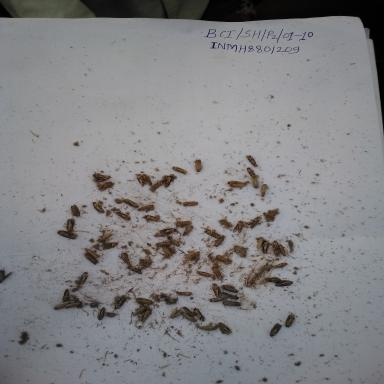pbw: (67, 204, 86, 220), (61, 216, 77, 232), (208, 265, 225, 280), (265, 322, 282, 337), (271, 238, 283, 259), (136, 202, 158, 213), (282, 312, 297, 328), (232, 218, 246, 235), (149, 179, 167, 192), (98, 230, 116, 243), (220, 282, 241, 293), (157, 225, 180, 235), (97, 180, 116, 192), (232, 244, 248, 258), (140, 172, 156, 186), (90, 171, 112, 181), (198, 323, 218, 334), (159, 292, 177, 304), (192, 307, 206, 322), (126, 264, 145, 275), (218, 322, 234, 335), (83, 254, 100, 266), (58, 230, 78, 240), (100, 241, 120, 251), (134, 296, 154, 306), (85, 248, 103, 259), (246, 154, 260, 168), (279, 243, 292, 258), (169, 307, 184, 320), (267, 207, 282, 220), (181, 312, 197, 324), (132, 305, 148, 317), (216, 254, 233, 265), (142, 215, 165, 223), (244, 166, 258, 179), (204, 229, 222, 239), (272, 260, 290, 270), (114, 211, 132, 221), (183, 250, 201, 260), (112, 297, 127, 309), (153, 239, 173, 248), (167, 235, 182, 247), (212, 235, 226, 247), (174, 219, 195, 227), (92, 202, 106, 214), (119, 253, 134, 264), (256, 263, 274, 272), (274, 280, 294, 288), (53, 300, 69, 310), (124, 198, 140, 208), (95, 307, 107, 320), (250, 215, 262, 228), (162, 246, 175, 258), (193, 158, 204, 172), (211, 283, 222, 297), (226, 179, 248, 186), (261, 276, 283, 283), (64, 301, 83, 309), (230, 182, 248, 190), (181, 306, 195, 316), (134, 173, 144, 187), (222, 300, 242, 307), (197, 270, 211, 280), (256, 236, 265, 251), (224, 294, 243, 301), (261, 240, 269, 256), (172, 166, 188, 174), (164, 176, 173, 190), (61, 288, 70, 302), (259, 182, 268, 196), (79, 272, 89, 284), (182, 226, 194, 236), (181, 201, 199, 207), (176, 290, 194, 296), (208, 297, 228, 302), (252, 176, 260, 188)
